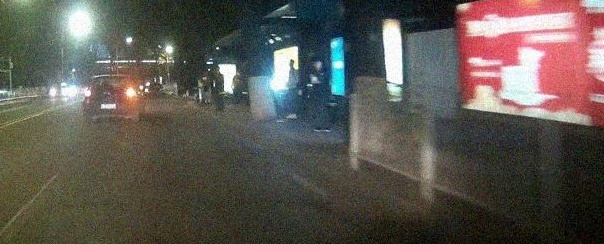L_light: (83, 90, 96, 97)
R_light: (119, 88, 134, 95)
T_light: (107, 76, 117, 79)
night-right: (83, 75, 140, 123)
